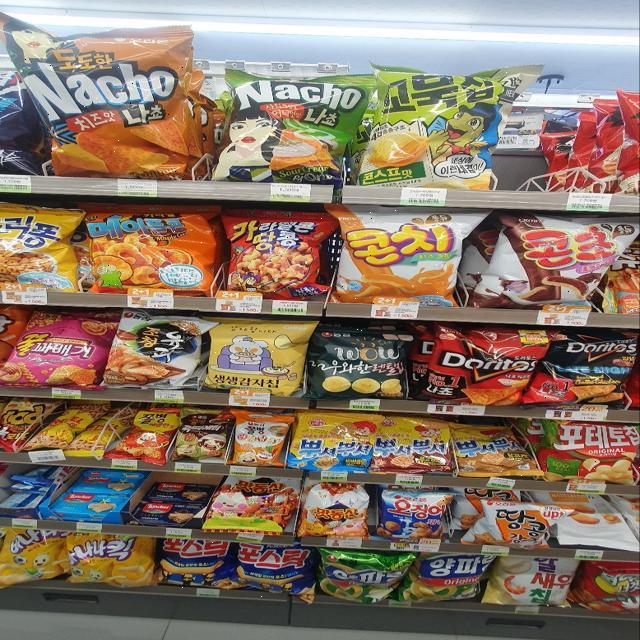product: (13, 30, 194, 174), (368, 65, 542, 190), (215, 68, 362, 188), (338, 210, 484, 304), (500, 212, 628, 308), (418, 330, 550, 411), (84, 214, 212, 294), (212, 218, 342, 296), (105, 308, 199, 396), (210, 324, 308, 398), (541, 417, 640, 490), (318, 327, 414, 402), (488, 502, 570, 552), (386, 416, 454, 476), (302, 414, 382, 464), (156, 537, 234, 588), (244, 542, 315, 598), (456, 425, 528, 479), (382, 494, 452, 539)
